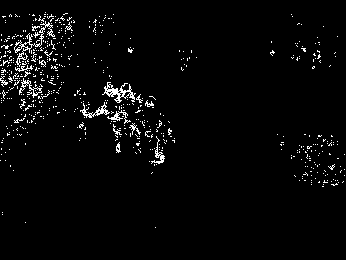person: (79, 82, 142, 157), (107, 81, 148, 153), (137, 94, 177, 166)
